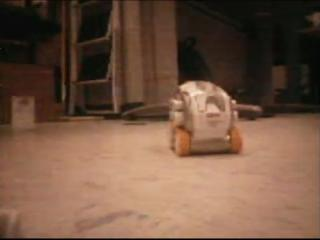cozmo: (167, 79, 244, 157)
